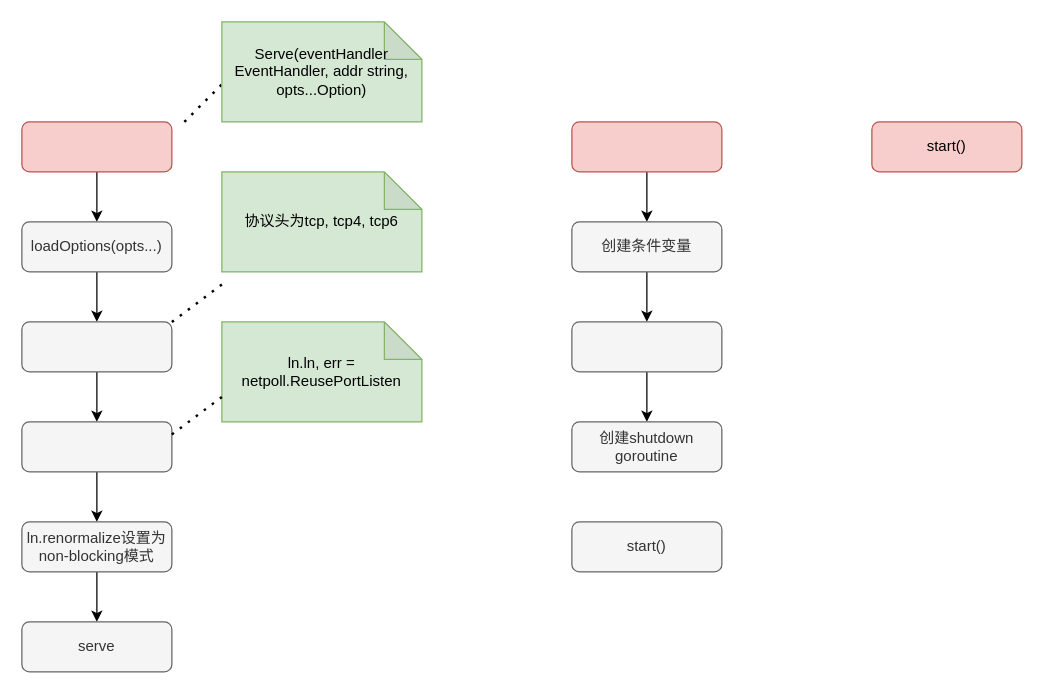
Image size: 1044x694. Some labels were removed from this diagram. Each missing label, with the centre of its shape:
gnet.Serve: pixel 96 146
serve(): pixel 646 146
创建logger: pixel 646 346
根据协议头来创建相关listener: pixel 96 346
设置listen fd为ReusePort: pixel 96 446
